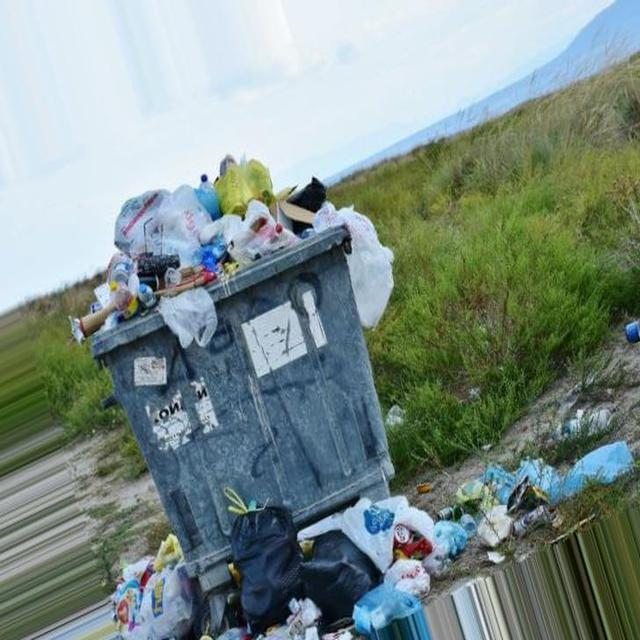garbage: (61, 160, 393, 363), (95, 480, 428, 639), (469, 438, 640, 514), (432, 494, 478, 582), (480, 516, 542, 566), (376, 399, 415, 434), (605, 318, 640, 340)
